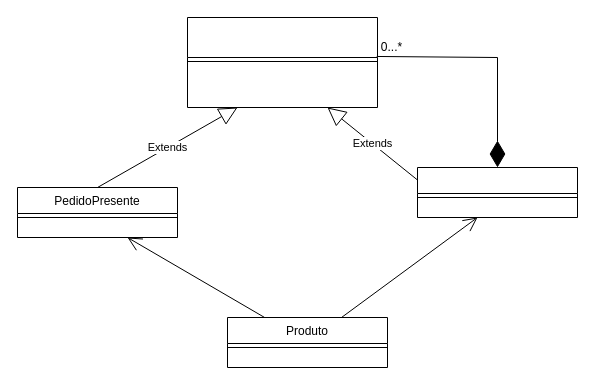
This 595x385 diagram has some shape labels left out. Here are the shapes that lost their labels. From the top down, the centre of each, then its label:
At (x=282, y=62): "«abstract» Pedido".
At (x=497, y=192): "PedidoComum".
